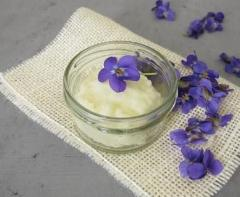glass: (61, 39, 179, 157)
